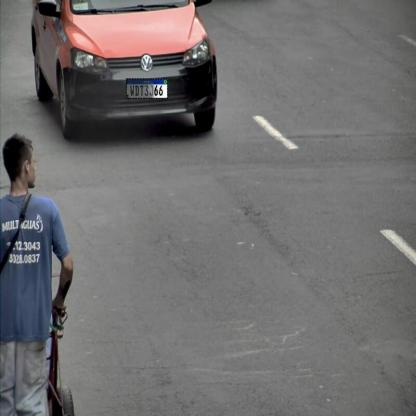PlacaM: (126, 78, 168, 99)
